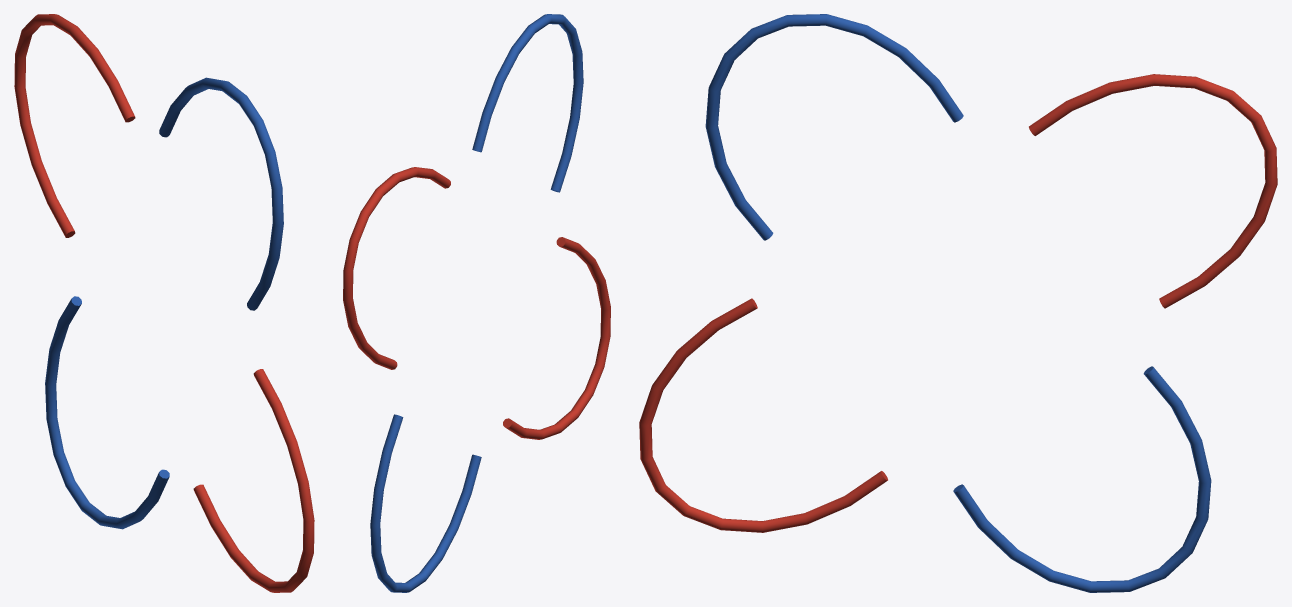
The model's file is rotor_magnetic_field.glb.
3 renders of one model, left to right at view 1: azimuth 30°, elevation 25°; view 2: azimuth 150°, elevation 25°; view 3: azimuth 270°, elevation 25°, orthographic. The views are drawn at different scales.
Parts seen in each view (by area): view 1: mf; view 2: mf; view 3: mf.
Boxes of the visible parts, <box> form: mf: <box>14,14,314,592</box>; mf: <box>343,14,610,592</box>; mf: <box>639,14,1277,592</box>.
Bounding box in the file's own units: 0.008 × 0.4069 × 0.4069.
